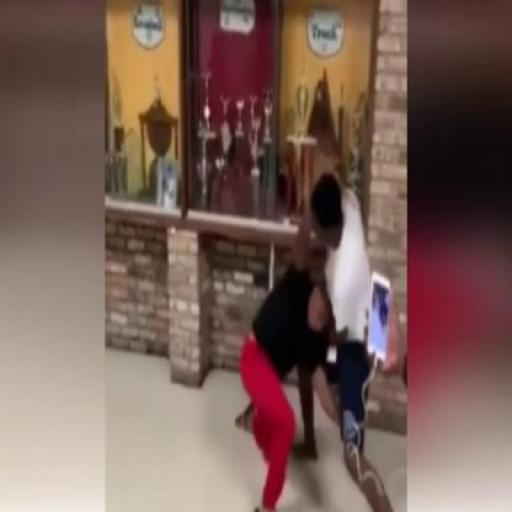Fighting: (233, 163, 402, 512)
